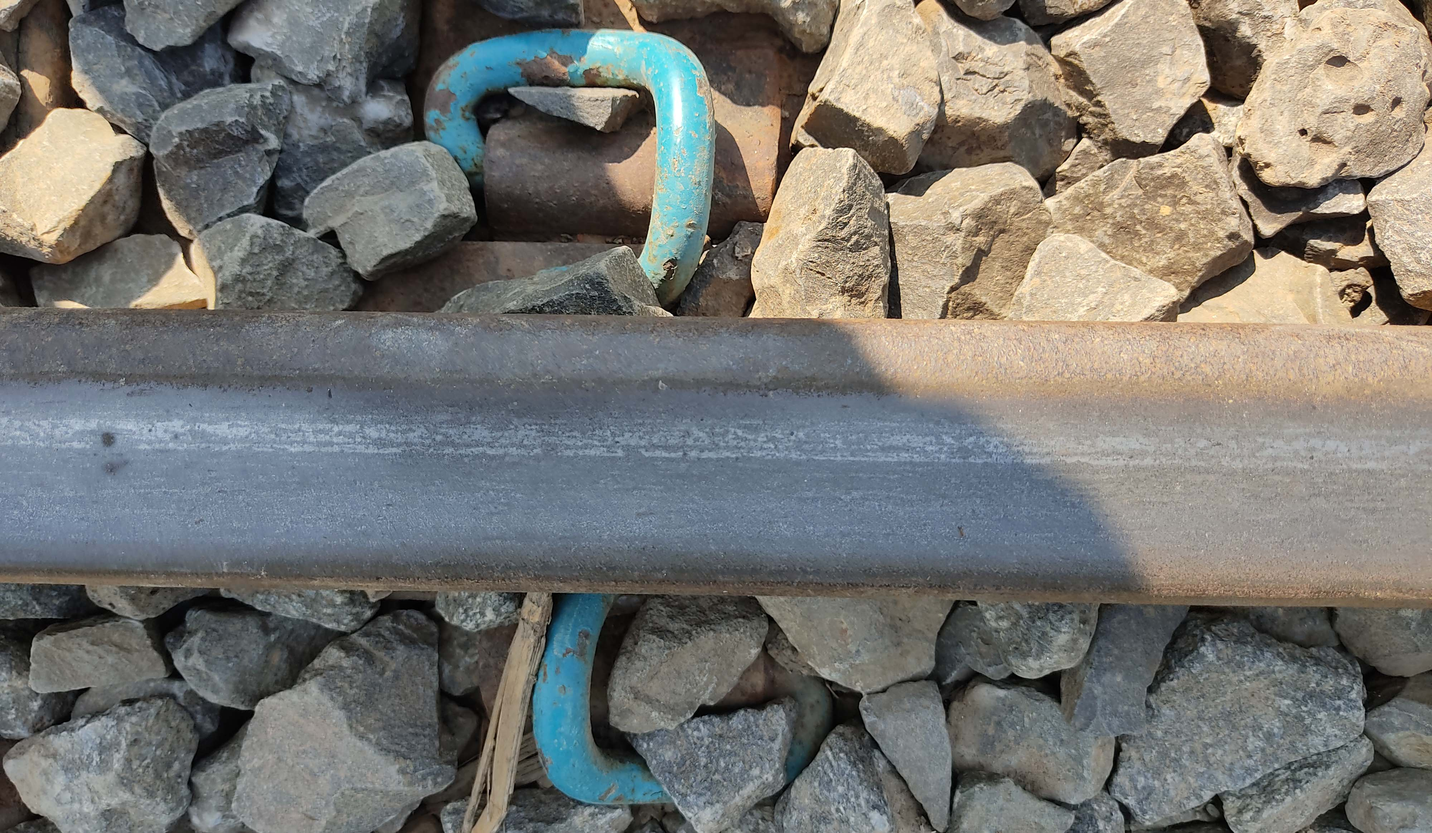Poor contact: (424, 33, 720, 305), (523, 590, 690, 812)
